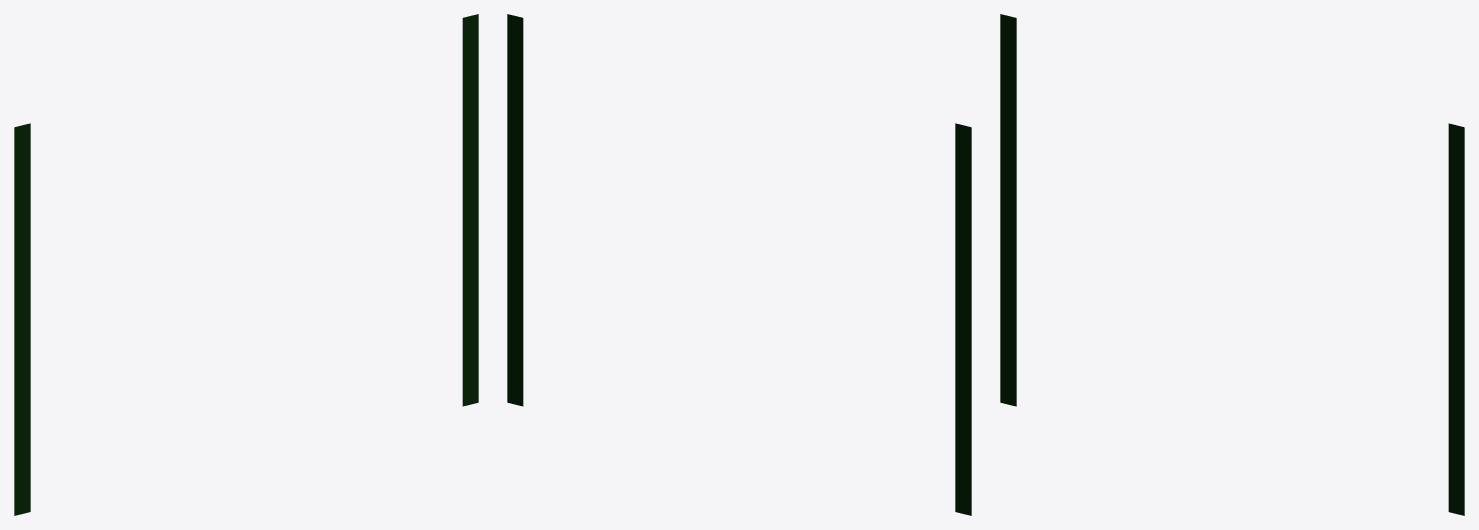
The model's file is Outer.fbx.
3 renders of one model, left to right at view 1: azimuth 30°, elevation 25°; view 2: azimuth 150°, elevation 25°; view 3: azimuth 330°, elevation 25°, orthographic.
Parts seen in each view (by area): view 1: Outer; view 2: Outer; view 3: Outer.
Boxes of the visible parts, x1,y1,x2,y2 form: Outer: [14, 14, 478, 515]; Outer: [507, 14, 971, 515]; Outer: [1000, 14, 1464, 515].
Bounding box in the file's own units: 125 × 100 × 0.
